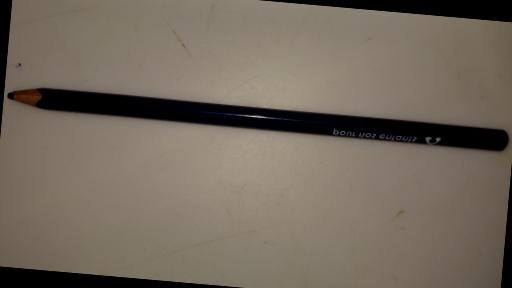Pencil: (4, 84, 510, 150)
